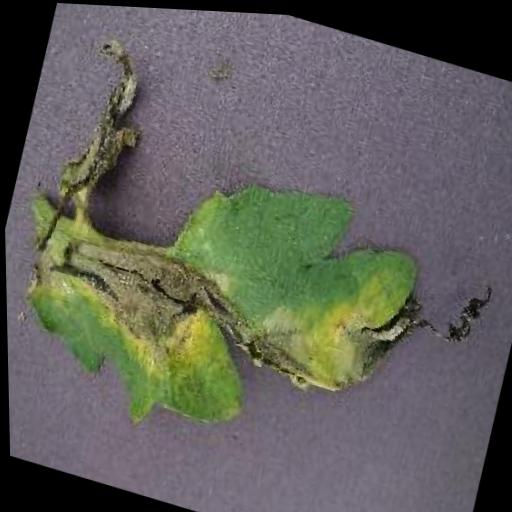Late Blight: (0, 25, 512, 512)
